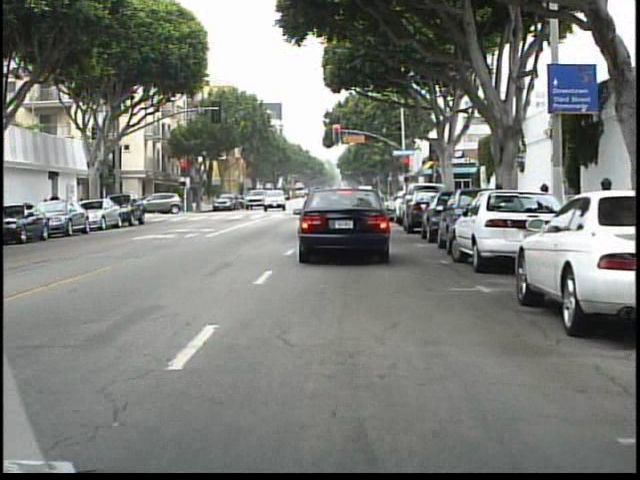person: (46, 188, 63, 226), (147, 190, 162, 218)
